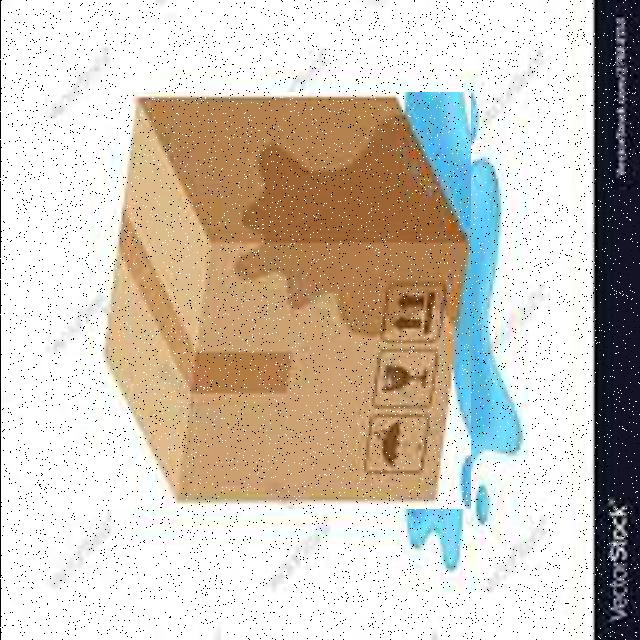defect: (100, 92, 470, 509)
